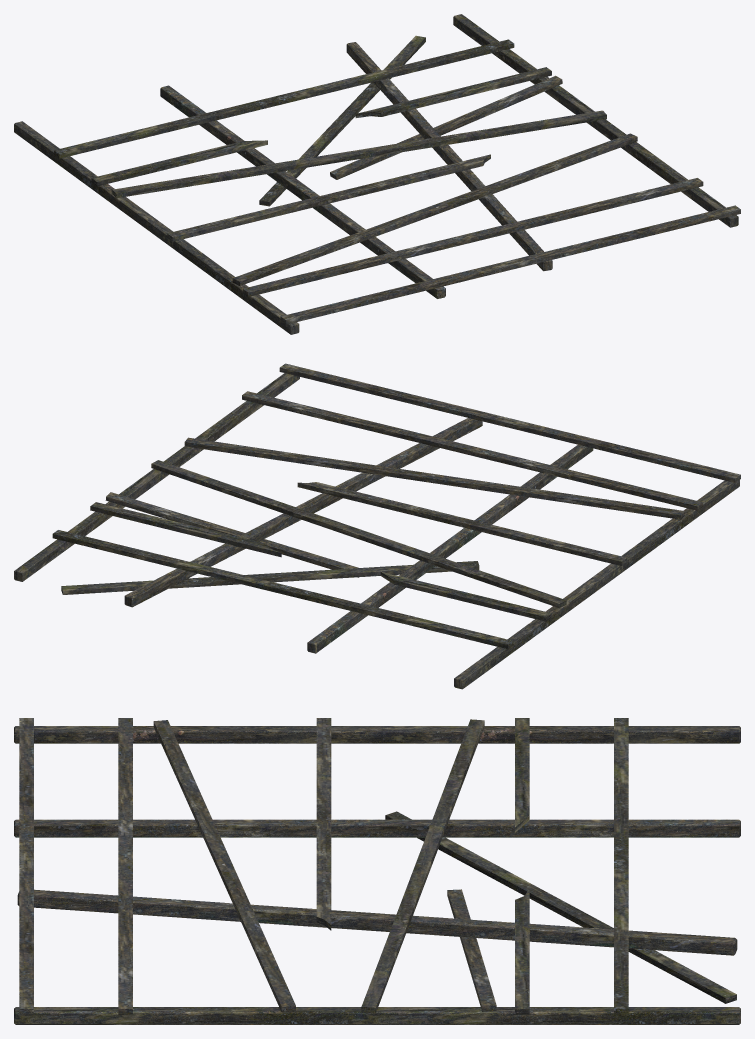
Rendered from RoofBrokenWood.fbx.
3 renders of one model, top to bottom at view 1: azimuth 30°, elevation 25°; view 2: azimuth 150°, elevation 25°; view 3: azimuth 270°, elevation 25°, orthographic. The views are drawn at different scales.
Parts seen in each view (by area): view 1: Horizontal_Broken, Vertical_Broken; view 2: Horizontal_Broken, Vertical_Broken; view 3: Vertical_Broken, Horizontal_Broken.
Boxes of the visible parts, x1=… form: Horizontal_Broken: x1=54, y1=35, x2=740, y2=324; Vertical_Broken: x1=14, y1=14, x2=738, y2=334; Horizontal_Broken: x1=52, y1=363, x2=740, y2=649; Vertical_Broken: x1=14, y1=373, x2=739, y2=689; Vertical_Broken: x1=14, y1=726, x2=740, y2=1024; Horizontal_Broken: x1=19, y1=718, x2=736, y2=1014.
Bounding box in the file's own units: 396 × 27.22 × 418.
